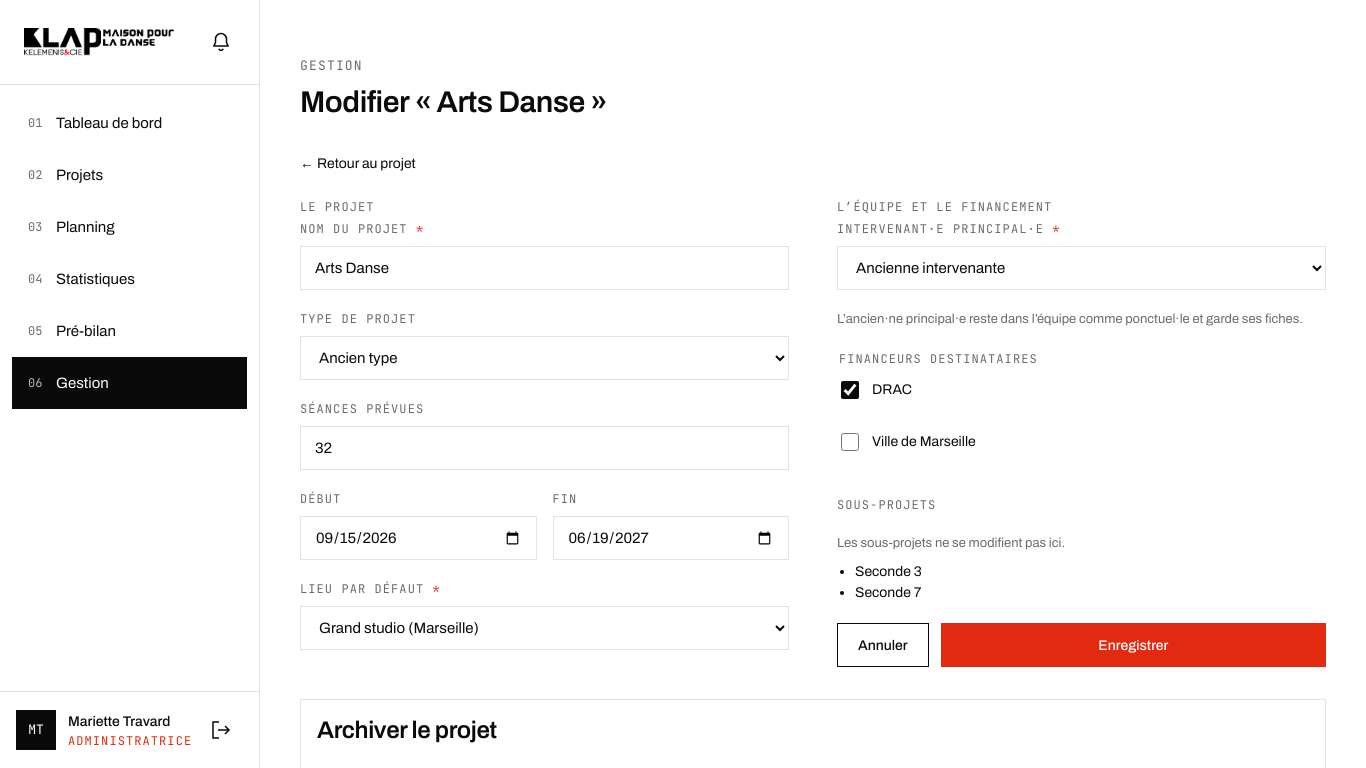
Modifier un projet › envoie seulement ce qui change et affiche la confirmation
Replace the text in the field labelled "Nom du projet *" with "Arts Danse 2027" at (544,268), box [300,246,789,290]
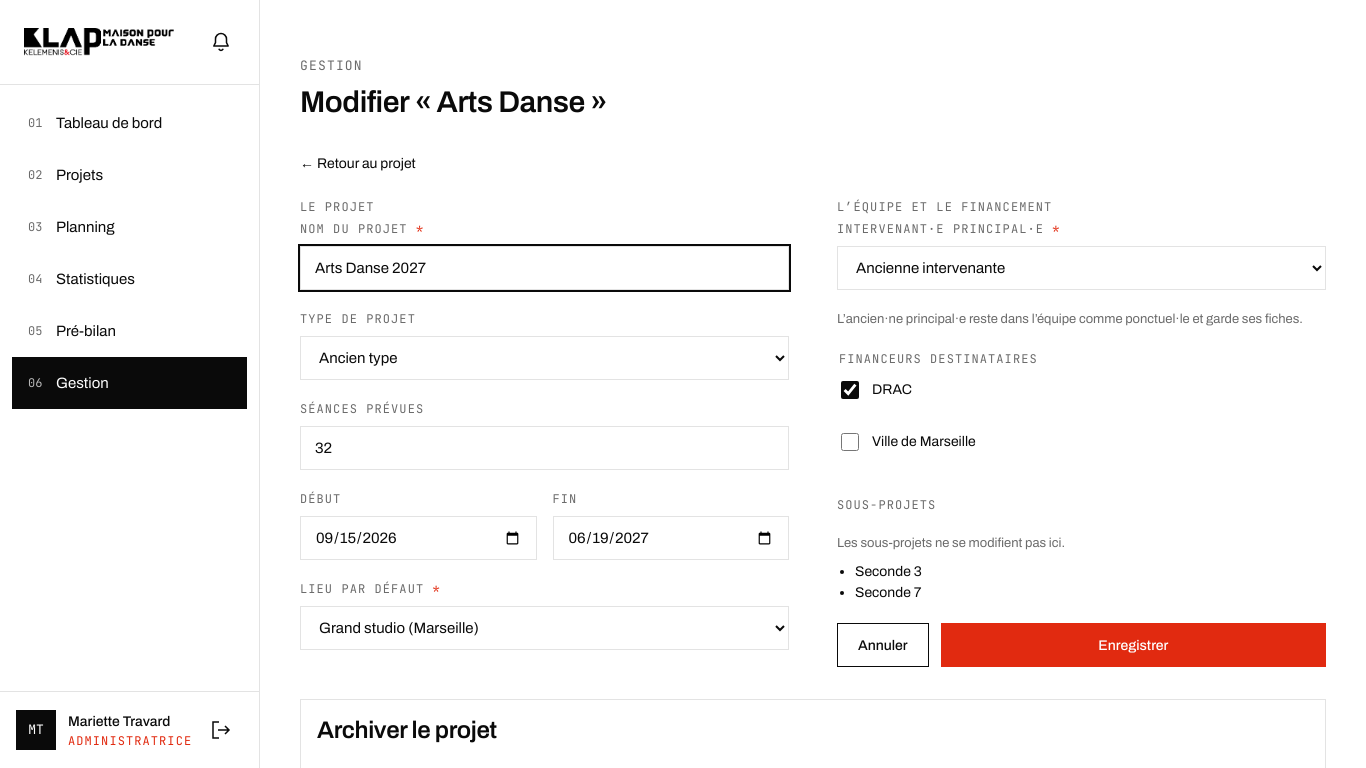
Click the checkbox labelled "Ville de Marseille" at (850,442), box [841,432,859,450]
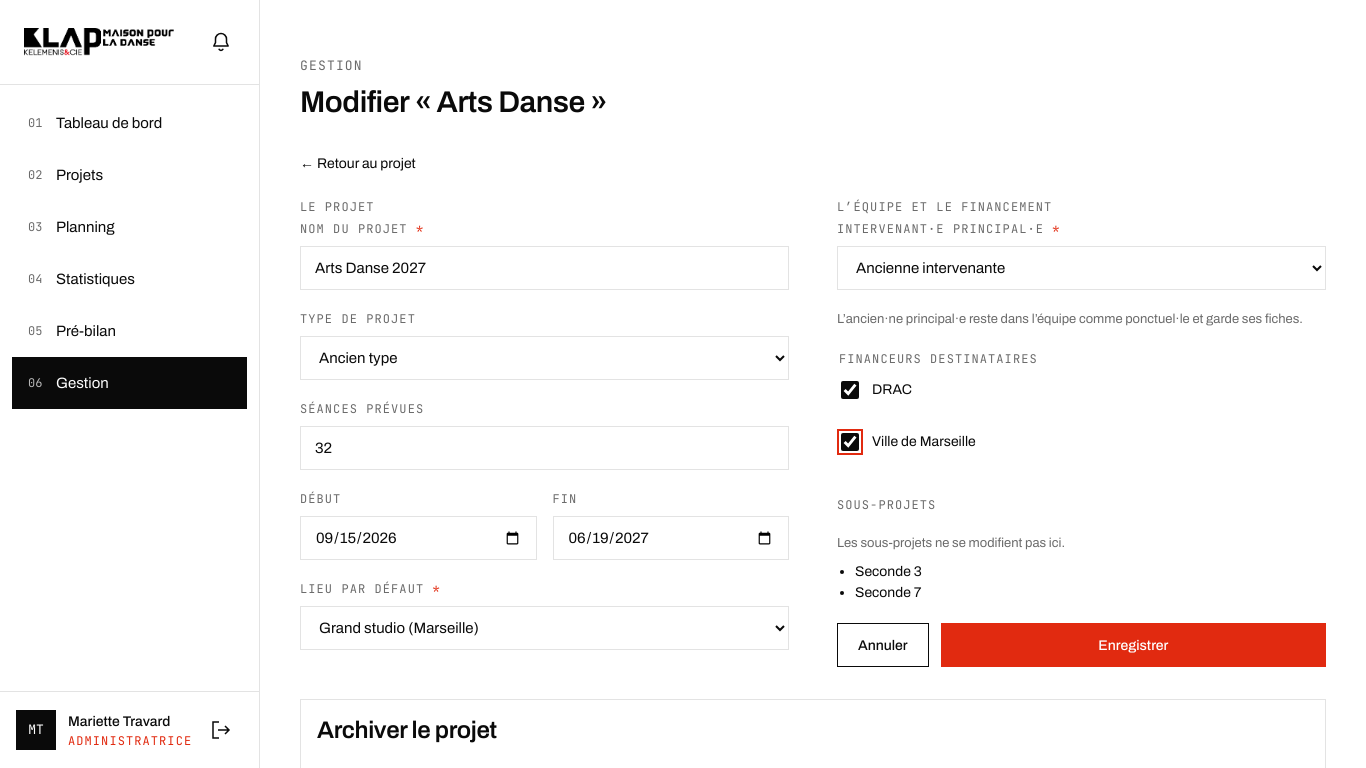
Click the button "Enregistrer" at (1133,645), box [941,623,1326,667]
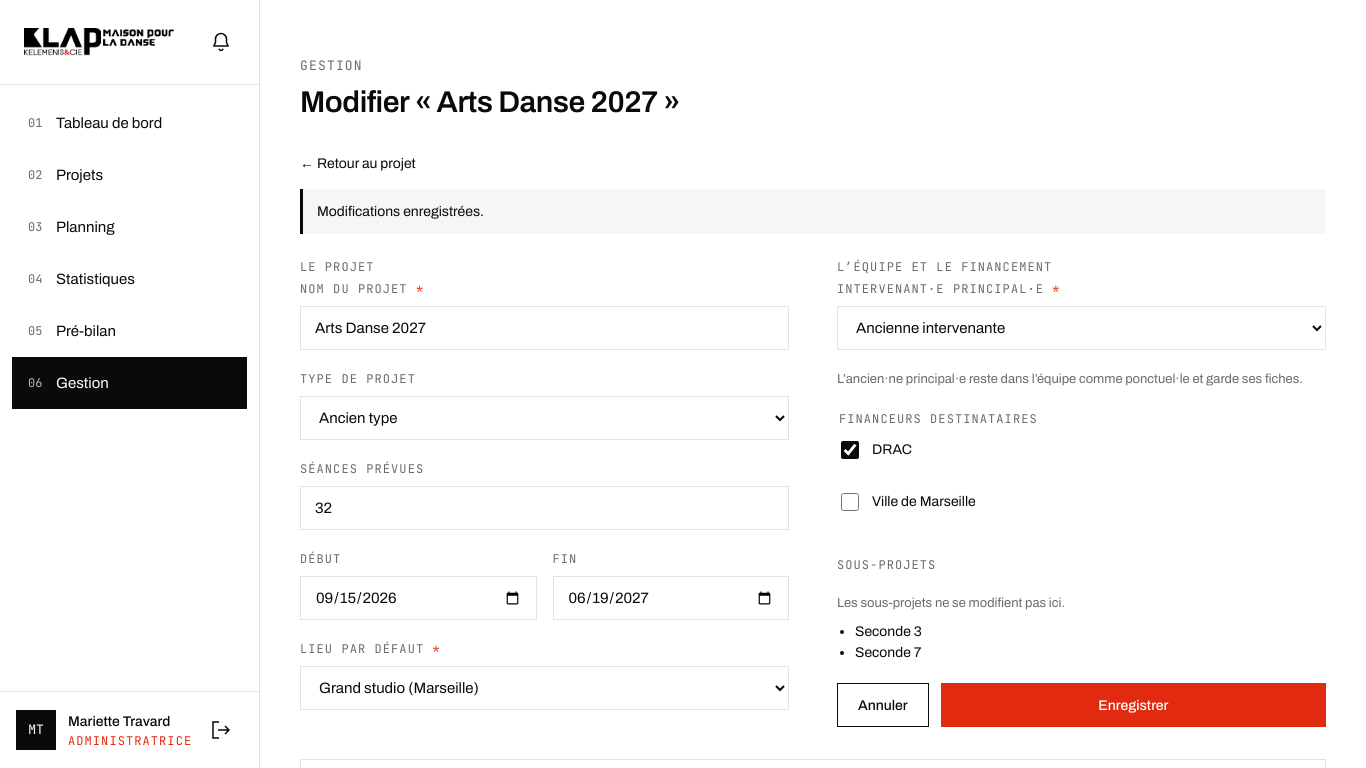
Result: the message reads "Modifications enregistrées." at [317,204,484,219]
